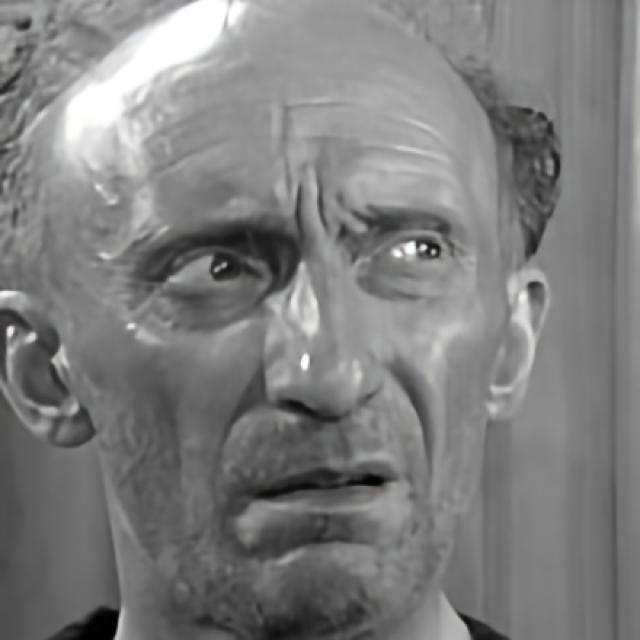disgust: (98, 62, 508, 640)
